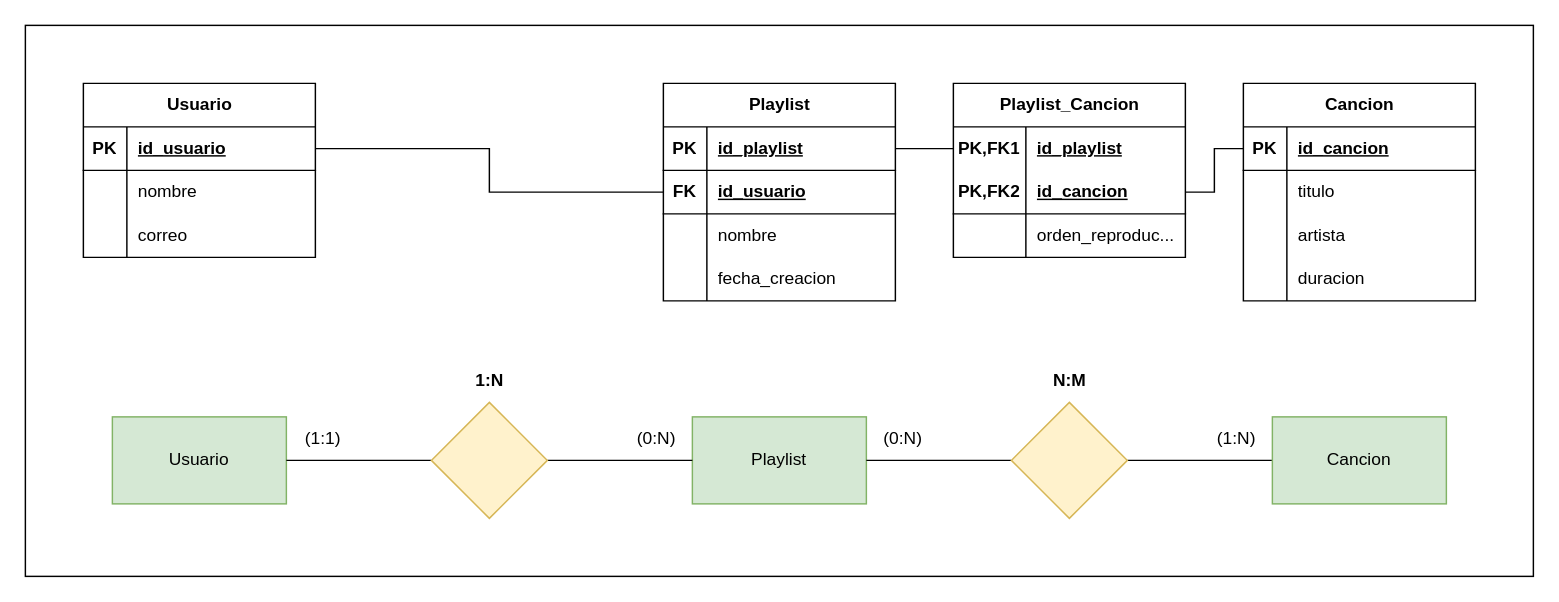
Image size: 1559x602. Some labels were removed from this diagram. Here are the shapes that lost their labels. From the top down, the centre of each, then its label:
At point 488,459: "tener".
At point 1068,459: "estar".
